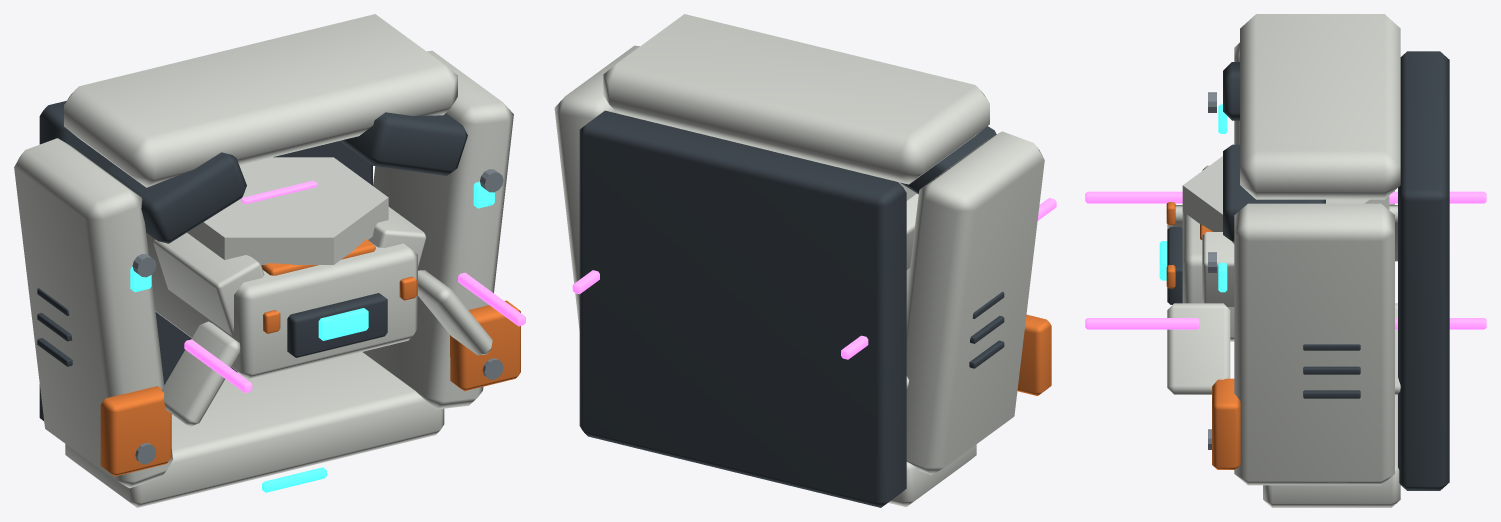
The model's file is VXDR_JAMMER_v002_DOCKED.fbx.
The picture shows the model from 3 angles, left to right: view 1: azimuth 30°, elevation 25°; view 2: azimuth 150°, elevation 25°; view 3: azimuth 270°, elevation 25°; orthographic projection. The views are drawn at different scales.
Visible parts, largest first — view 1: Docked_Top bridge, Docked_Cradle armored rail, Docked_Bottom charging bridge, Docked_Cradle armored rail.001, Docked_Armored sensor shell, Docked_Hexagonal resonator, Docked_Angled cradle brow, Docked_Angled cradle brow.001, Docked_Sloped cheek armor, Docked_Rail orange latch, Docked_Body mounting plate, Docked_Foldable stabilizer (+10 smaller); view 2: Docked_Body mounting plate, Docked_Top bridge, Docked_Cradle armored rail, Docked_Cradle armored rail.001, Docked_Rail orange latch, Docked_Bottom charging bridge, Docked_Angled cradle brow, Docked_Sloped cheek armor; view 3: Docked_Cradle armored rail.001, Docked_Top bridge, Docked_Body mounting plate, Docked_Foldable stabilizer.002, Docked_Bottom charging bridge, Docked_Hexagonal resonator, Docked_Rail orange latch.001, Docked_Angled cradle brow.001, Docked_Armored sensor shell, Docked_Sloped cheek armor.001, Docked_Jamming aerial.002, Docked_Jamming aerial (+6 smaller).
Boxes of the visible parts, <box> form: Docked_Top bridge: <box>64,14,457,187</box>; Docked_Cradle armored rail: <box>14,138,172,488</box>; Docked_Bottom charging bridge: <box>65,352,444,507</box>; Docked_Cradle armored rail.001: <box>362,50,513,409</box>; Docked_Armored sensor shell: <box>146,233,417,379</box>; Docked_Hexagonal resonator: <box>187,157,388,264</box>; Docked_Angled cradle brow: <box>106,152,246,243</box>; Docked_Angled cradle brow.001: <box>340,112,467,175</box>; Docked_Sloped cheek armor: <box>153,232,264,335</box>; Docked_Rail orange latch: <box>100,386,171,476</box>; Docked_Body mounting plate: <box>39,101,372,421</box>; Docked_Foldable stabilizer: <box>161,321,240,426</box>; Docked_Body mounting plate: <box>579,110,906,507</box>; Docked_Top bridge: <box>603,14,989,184</box>; Docked_Cradle armored rail: <box>906,131,1044,474</box>; Docked_Cradle armored rail.001: <box>554,45,639,330</box>; Docked_Rail orange latch: <box>1017,314,1051,395</box>; Docked_Bottom charging bridge: <box>888,444,976,506</box>; Docked_Angled cradle brow: <box>900,126,996,194</box>; Docked_Sloped cheek armor: <box>906,193,918,269</box>; Docked_Cradle armored rail.001: <box>1234,203,1394,485</box>; Docked_Top bridge: <box>1240,14,1400,199</box>; Docked_Body mounting plate: <box>1398,51,1449,490</box>; Docked_Foldable stabilizer.002: <box>1167,303,1230,394</box>; Docked_Bottom charging bridge: <box>1263,395,1400,507</box>; Docked_Hexagonal resonator: <box>1182,156,1389,243</box>; Docked_Rail orange latch.001: <box>1212,378,1240,469</box>; Docked_Angled cradle brow.001: <box>1223,144,1325,241</box>; Docked_Armored sensor shell: <box>1182,211,1234,341</box>; Docked_Sloped cheek armor.001: <box>1202,232,1234,306</box>; Docked_Jamming aerial.002: <box>1085,318,1199,329</box>; Docked_Jamming aerial: <box>1085,191,1182,203</box>.
Size of the model in its own units: 40.81 by 35 by 35.
